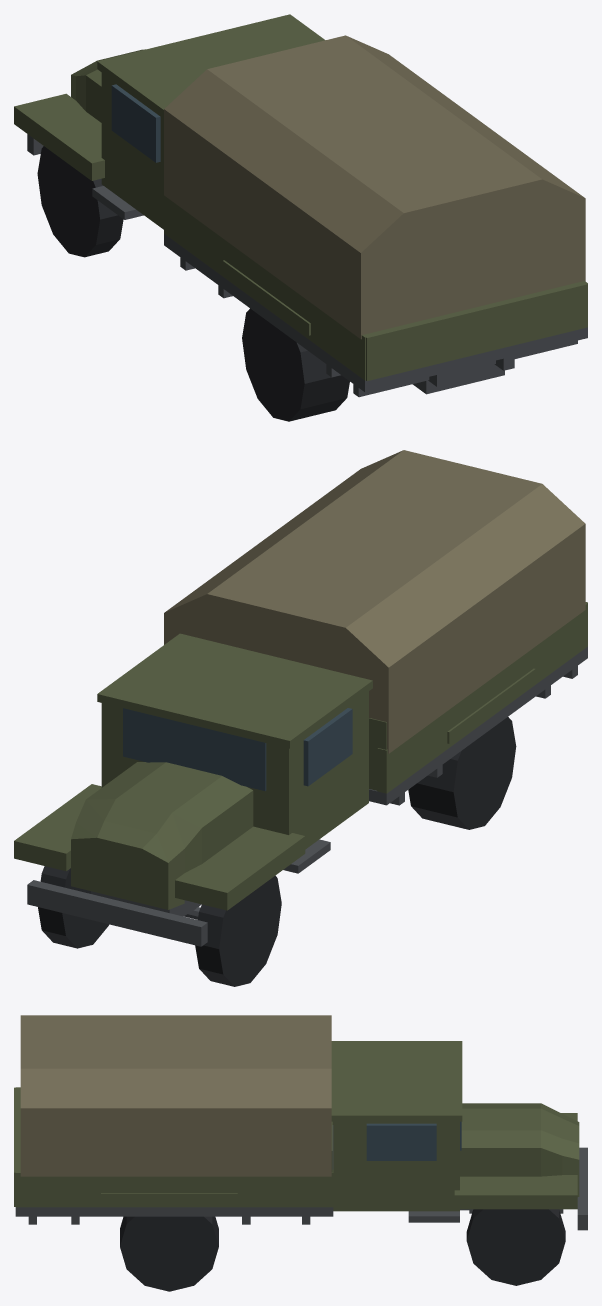
File: zis150.glb
The picture shows the model from 3 angles, top to bottom: view 1: azimuth 30°, elevation 25°; view 2: azimuth 150°, elevation 25°; view 3: azimuth 270°, elevation 25°; orthographic projection. The views are drawn at different scales.
Visible parts, largest first — view 1: ZIS_Tilt, ZIS_BedTail, ZIS_CabRoof, ZIS_WheelR_L, ZIS_BedSide_L, ZIS_WheelF_L, ZIS_BedFloor, ZIS_Fender_L, ZIS_Cab, ZIS_SideWindow_L, ZIS_RearFender_L, ZIS_Hood (+3 smaller); view 2: ZIS_Tilt, ZIS_CabRoof, ZIS_Hood, ZIS_Cab, ZIS_Radiator, ZIS_BedSide_L, ZIS_WheelR_L, ZIS_Windscreen, ZIS_WheelF_L, ZIS_Fender_L, ZIS_Bumper, ZIS_Fender_R (+5 smaller); view 3: ZIS_Tilt, ZIS_CabRoof, ZIS_BedSide_R, ZIS_Cab, ZIS_Hood, ZIS_WheelF_R, ZIS_WheelR_R, ZIS_Fender_R, ZIS_BedFloor, ZIS_SideWindow_R, ZIS_RearFender_R, ZIS_Radiator (+3 smaller).
Part boxes in pixels (x1,y1,x2,y2): ZIS_Tilt: (164, 35, 585, 339); ZIS_BedTail: (363, 282, 587, 380); ZIS_CabRoof: (97, 14, 325, 117); ZIS_WheelR_L: (242, 308, 349, 421); ZIS_BedSide_L: (164, 195, 373, 380); ZIS_WheelF_L: (37, 146, 123, 257); ZIS_BedFloor: (164, 234, 587, 392); ZIS_Fender_L: (14, 93, 104, 180); ZIS_Cab: (101, 73, 163, 229); ZIS_SideWindow_L: (111, 84, 160, 162); ZIS_RearFender_L: (222, 260, 310, 335); ZIS_Hood: (76, 65, 101, 122); ZIS_Tilt: (164, 450, 585, 753); ZIS_CabRoof: (97, 633, 372, 748); ZIS_Hood: (76, 762, 253, 872); ZIS_Cab: (101, 691, 368, 849); ZIS_Radiator: (71, 821, 184, 909); ZIS_BedSide_L: (377, 603, 587, 793); ZIS_WheelR_L: (408, 717, 516, 829); ZIS_Windscreen: (123, 708, 266, 791); ZIS_WheelF_L: (195, 875, 281, 986); ZIS_Fender_L: (175, 826, 305, 910); ZIS_Bumper: (27, 880, 207, 946); ZIS_Fender_R: (14, 784, 101, 871); ZIS_Tilt: (20, 1015, 331, 1176); ZIS_CabRoof: (331, 1041, 462, 1121); ZIS_BedSide_R: (15, 1169, 333, 1207); ZIS_Cab: (333, 1121, 459, 1211); ZIS_Hood: (460, 1103, 562, 1176); ZIS_WheelF_R: (466, 1209, 565, 1285); ZIS_WheelR_R: (120, 1216, 218, 1291); ZIS_Fender_R: (454, 1175, 577, 1209); ZIS_BedFloor: (15, 1125, 333, 1216); ZIS_SideWindow_R: (366, 1123, 436, 1160); ZIS_RearFender_R: (101, 1193, 237, 1203); ZIS_Radiator: (562, 1114, 579, 1196).
Size of the model in its own units: 2.42 by 2.7 by 6.72.
